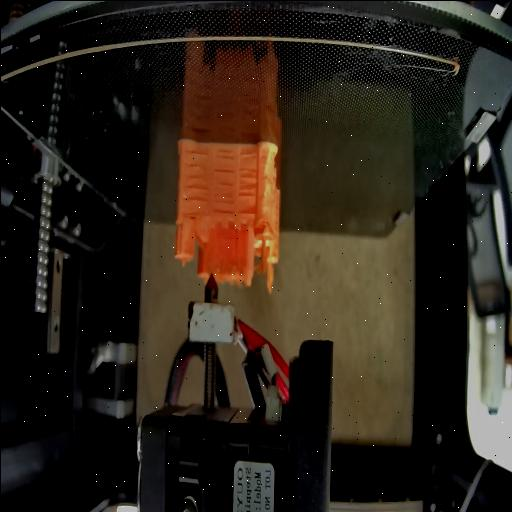cracks: (182, 148, 206, 204), (237, 150, 256, 196), (211, 182, 235, 214), (213, 146, 235, 176), (237, 207, 256, 219), (188, 212, 198, 224)
